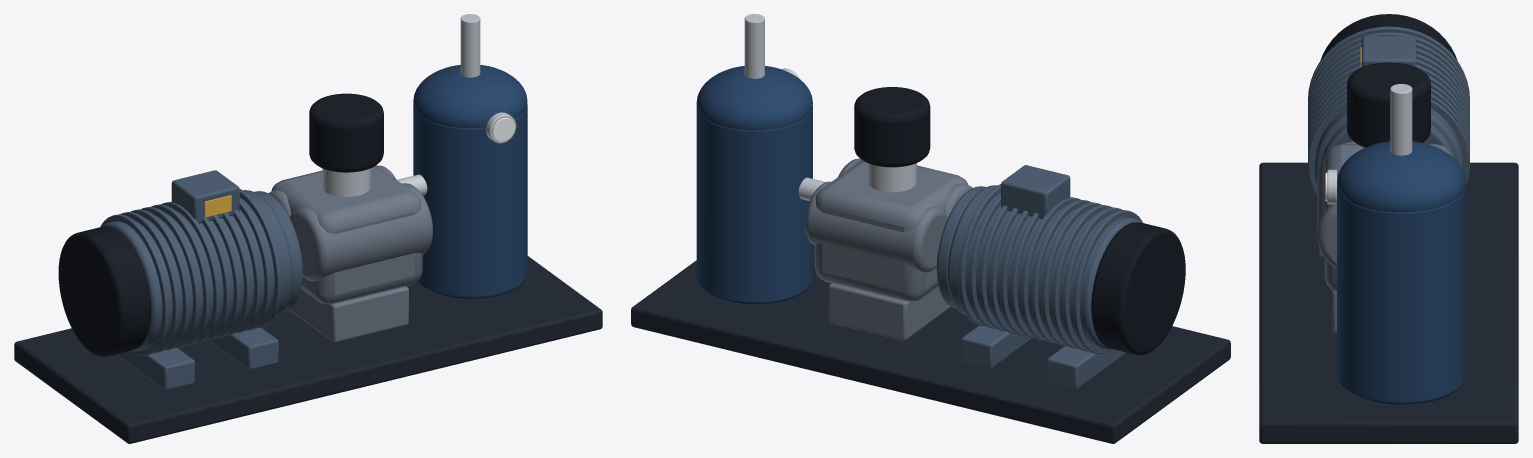
File: compressor.glb
The picture shows the model from 3 angles, left to right: view 1: azimuth 30°, elevation 25°; view 2: azimuth 150°, elevation 25°; view 3: azimuth 270°, elevation 25°; orthographic projection. The views are drawn at different scales.
Visible parts, largest first — view 1: C_Skid, C_Separator, C_MotorFins, C_FanCover, C_AirendBlock, C_MotorBody, C_LobeA, C_SeparatorDome, C_AirFilter, C_AirendFoot, C_TerminalBox, C_MotorFoot0 (+4 smaller); view 2: C_Skid, C_Separator, C_MotorFins, C_AirendBlock, C_FanCover, C_MotorBody, C_SeparatorDome, C_AirFilter, C_LobeB, C_AirendFoot, C_TerminalBox, C_MotorFoot0 (+4 smaller); view 3: C_Skid, C_Separator, C_MotorFins, C_SeparatorDome, C_AirFilter, C_OutletPipe, C_TerminalBox, C_FanCover, C_LobeA, C_MotorBody, C_AirendBlock, C_MotorDE (+1 smaller).
Boxes of the visible parts, bbox=[...] form: C_Skid: bbox=[14, 256, 602, 443]; C_Separator: bbox=[413, 104, 527, 299]; C_MotorFins: bbox=[100, 189, 281, 355]; C_FanCover: bbox=[58, 226, 151, 356]; C_AirendBlock: bbox=[271, 165, 422, 304]; C_MotorBody: bbox=[101, 190, 292, 351]; C_LobeA: bbox=[289, 183, 432, 281]; C_SeparatorDome: bbox=[413, 65, 527, 128]; C_AirFilter: bbox=[309, 93, 383, 172]; C_AirendFoot: bbox=[289, 286, 408, 342]; C_TerminalBox: bbox=[171, 170, 239, 223]; C_MotorFoot0: bbox=[116, 348, 194, 390]; C_Skid: bbox=[631, 245, 1230, 443]; C_Separator: bbox=[696, 105, 812, 304]; C_MotorFins: bbox=[958, 184, 1142, 353]; C_AirendBlock: bbox=[814, 160, 968, 301]; C_FanCover: bbox=[1091, 222, 1185, 355]; C_MotorBody: bbox=[947, 185, 1141, 349]; C_SeparatorDome: bbox=[696, 66, 812, 130]; C_AirFilter: bbox=[854, 87, 930, 167]; C_LobeB: bbox=[805, 181, 947, 272]; C_AirendFoot: bbox=[828, 283, 950, 340]; C_TerminalBox: bbox=[1001, 165, 1070, 219]; C_MotorFoot0: bbox=[1046, 346, 1126, 389]; C_Skid: bbox=[1259, 162, 1518, 443]; C_Separator: bbox=[1337, 186, 1465, 405]; C_MotorFins: bbox=[1308, 26, 1469, 196]; C_SeparatorDome: bbox=[1337, 141, 1465, 212]; C_AirFilter: bbox=[1347, 62, 1430, 147]; C_OutletPipe: bbox=[1390, 84, 1412, 155]; C_TerminalBox: bbox=[1361, 36, 1416, 66]; C_FanCover: bbox=[1320, 14, 1457, 60]; C_LobeA: bbox=[1317, 141, 1356, 268]; C_MotorBody: bbox=[1314, 108, 1463, 185]; C_AirendBlock: bbox=[1324, 144, 1451, 292]; C_MotorDE: bbox=[1320, 123, 1456, 164].
Bounding box in the file's own units: 2.5 × 1.42 × 1.05.
